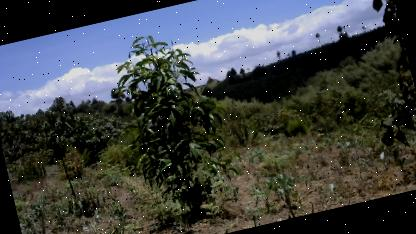tree: (92, 14, 255, 234)
